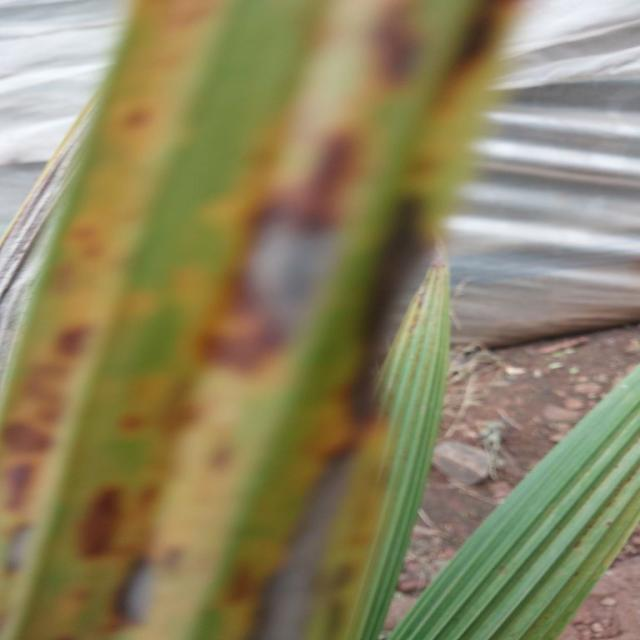gray leaf spot: (0, 0, 522, 639)
